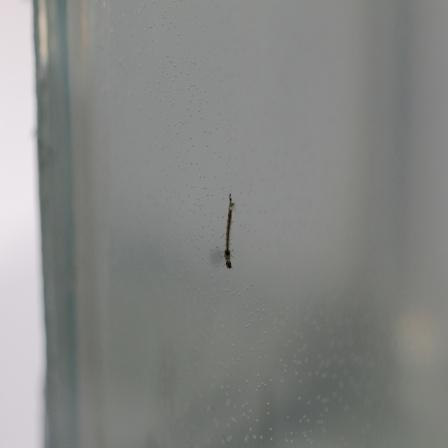Jentik-Nyamuk: (219, 189, 242, 274)
